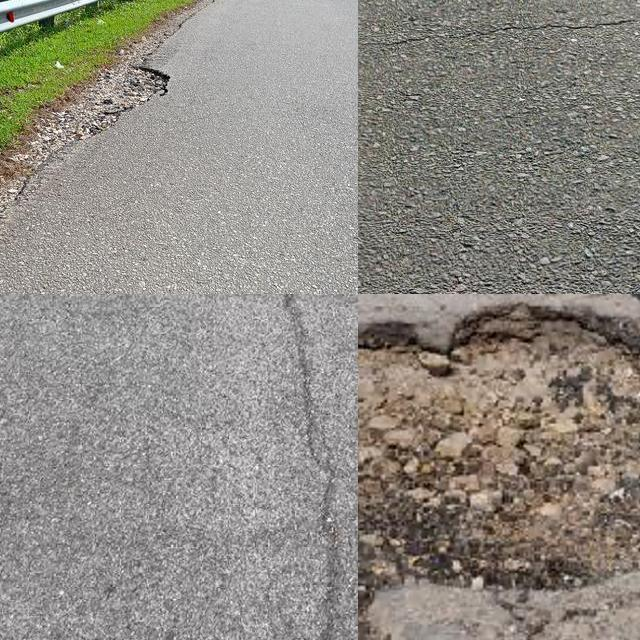Lubang: (358, 306, 640, 597)
Melintang: (358, 1, 640, 66)
Memanjang: (269, 294, 348, 640)
Pinggir: (0, 46, 184, 248)
